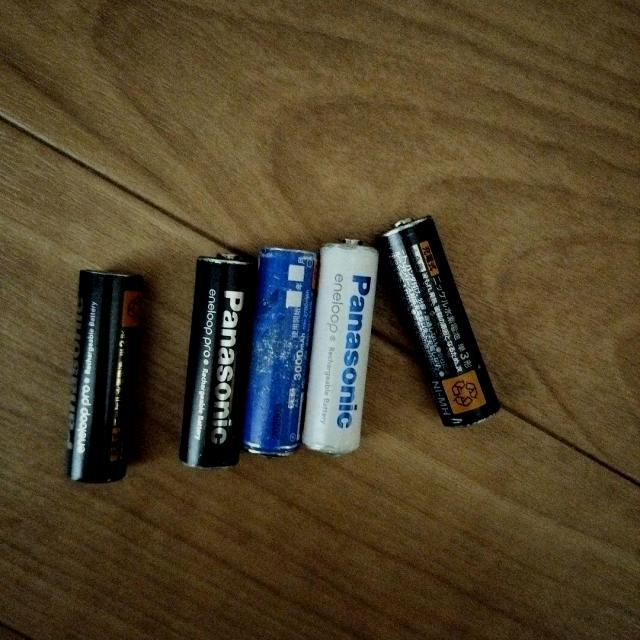AA: (376, 211, 505, 429), (298, 234, 382, 462), (62, 268, 147, 487), (177, 247, 256, 473), (239, 244, 320, 460)
